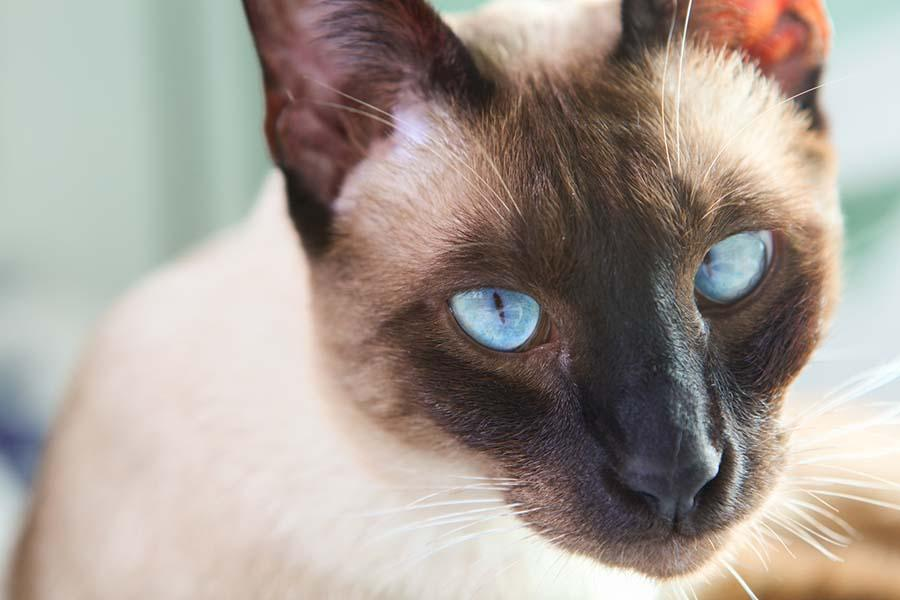siamese: (246, 1, 850, 590)
